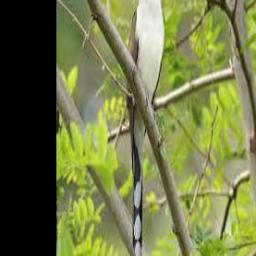Cuckoo: (127, 0, 166, 256)
